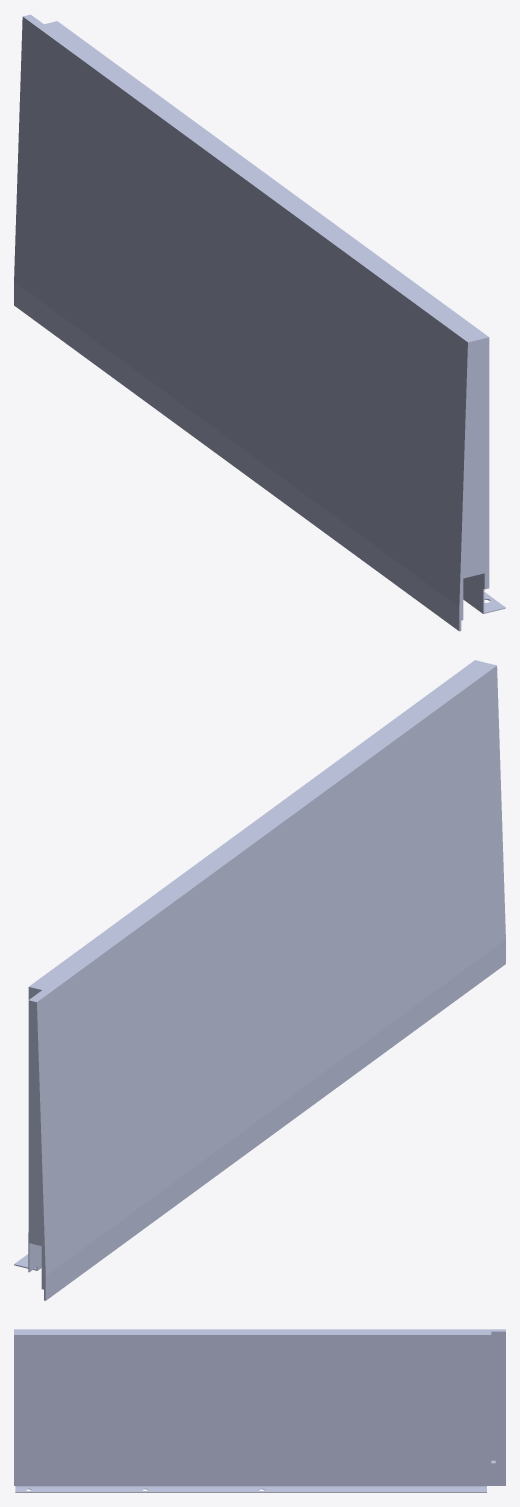
Rendered from mv-kava-E550-p.glb.
3 views of the same model, one above another, from view 1: azimuth 30°, elevation 25°; view 2: azimuth 150°, elevation 25°; view 3: azimuth 270°, elevation 25° (orthographic). The views are drawn at different scales.
Parts seen in each view (by area): view 1: 45816040; view 2: 45816040; view 3: 45816040.
Boxes of the visible parts, x1,y1,x2,y2 form: 45816040: (14, 14, 505, 631); 45816040: (14, 660, 505, 1300); 45816040: (14, 1329, 505, 1492).
Bounding box in the file's own units: 0.0335 × 0.192 × 0.5402.
